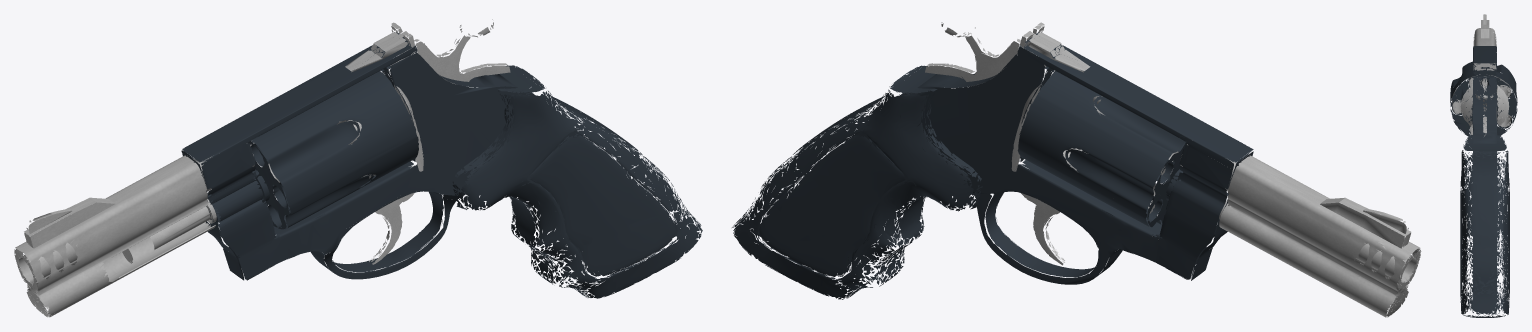
File: shouqiang.glb
3 views of the same model, side by side, from view 1: azimuth 30°, elevation 25°; view 2: azimuth 150°, elevation 25°; view 3: azimuth 270°, elevation 25° (orthographic). The views are drawn at different scales.
Visible parts, largest first — view 1: shouqiang; view 2: shouqiang; view 3: shouqiang.
Boxes of the visible parts, x1,y1,x2,y2 form: shouqiang: (14,19,702,317); shouqiang: (732,22,1421,317); shouqiang: (1450,14,1517,317).
Size of the model in its own units: 0.1996 by 0.0869 by 0.0278.
2 materials, 2 textured.
